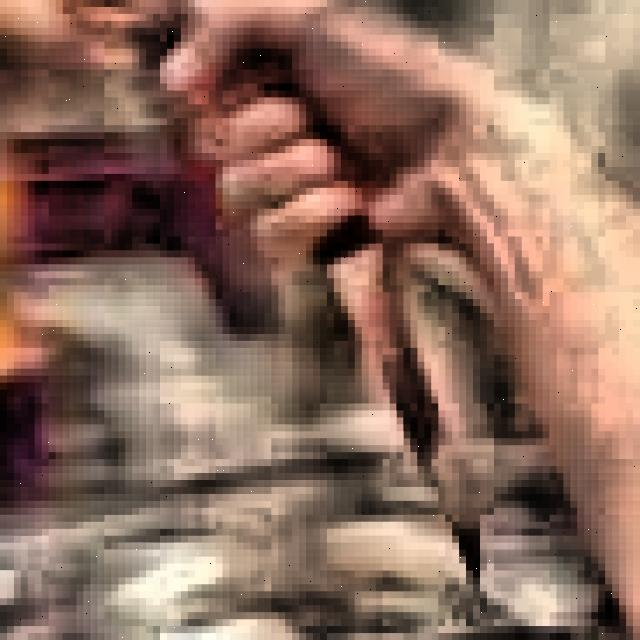knife: (329, 226, 484, 588)
